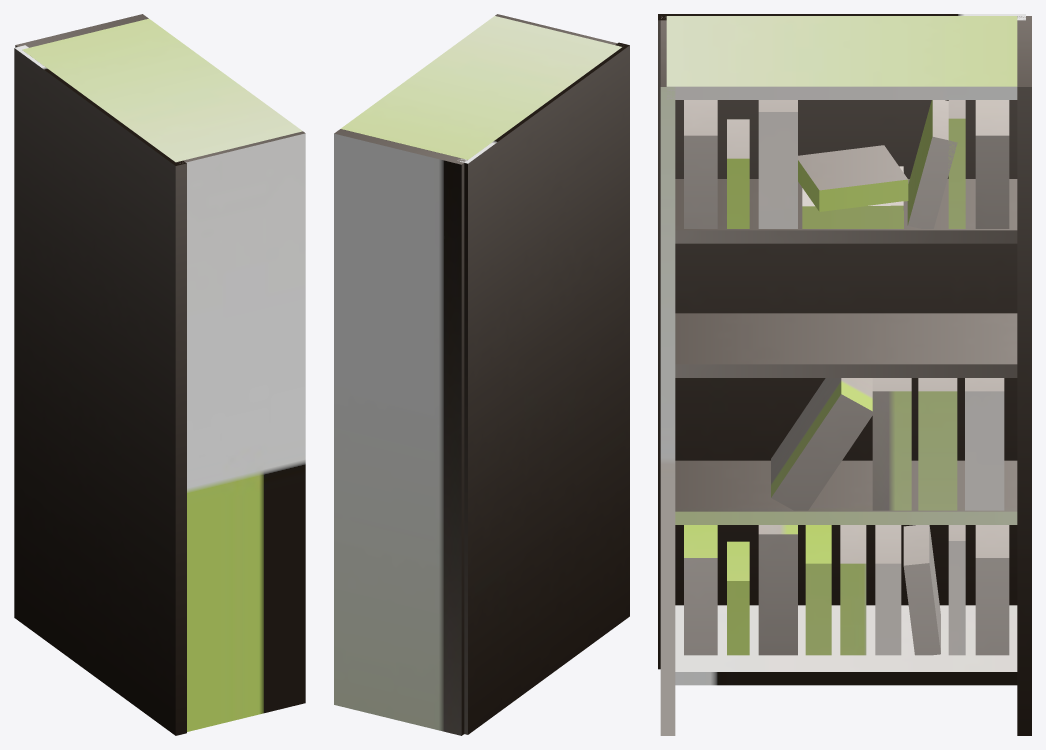
Rendered from BookcaseBurned.fbx.
3 views of the same model, side by side, from view 1: azimuth 30°, elevation 25°; view 2: azimuth 150°, elevation 25°; view 3: azimuth 270°, elevation 25° (orthographic). The views are drawn at different scales.
Parts seen in each view (by area): view 1: BookcaseBurned; view 2: BookcaseBurned; view 3: BookcaseBurned.
Boxes of the visible parts, x1,y1,x2,y2 form: BookcaseBurned: [14, 14, 305, 735]; BookcaseBurned: [334, 14, 629, 735]; BookcaseBurned: [658, 14, 1031, 735].
Bounding box in the file's own units: 9.1 × 37.79 × 19.73.
Materials: 1 (1 with a texture image).
